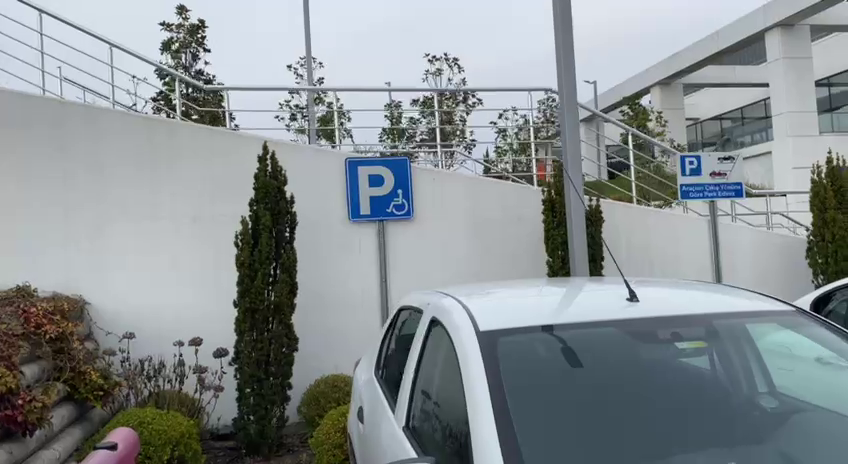parking: (344, 155, 414, 221), (679, 153, 705, 178)
